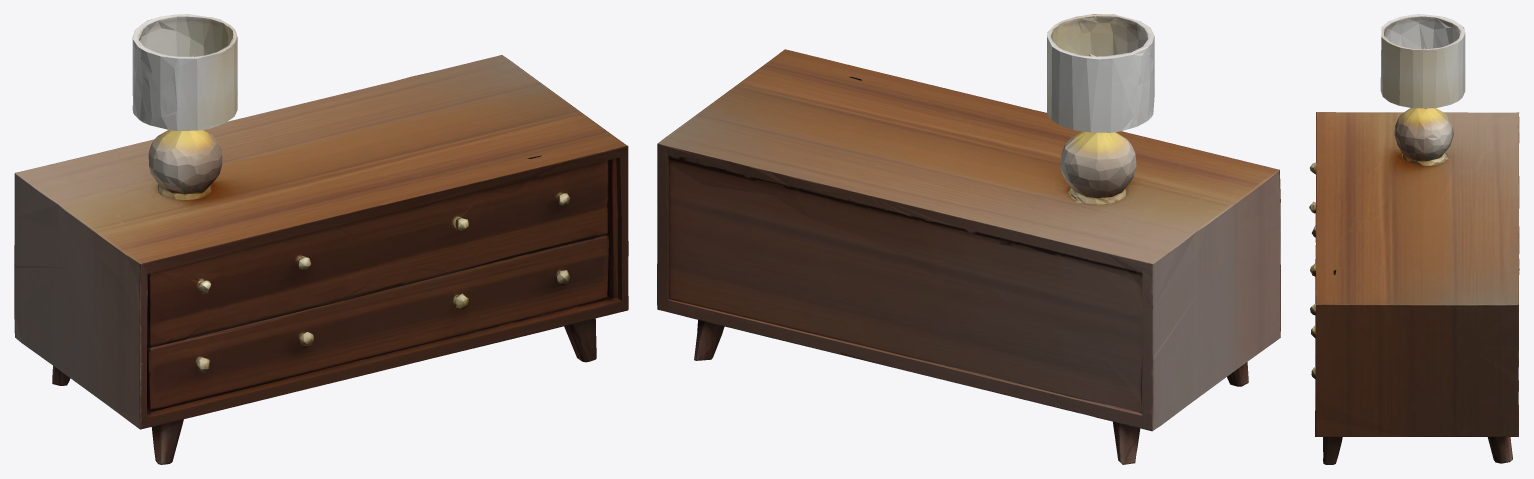
File: nightstand.glb
3 renders of one model, left to right at view 1: azimuth 30°, elevation 25°; view 2: azimuth 150°, elevation 25°; view 3: azimuth 270°, elevation 25°, orthographic. The views are drawn at different scales.
Visible parts, largest first — view 1: world; view 2: world; view 3: world.
Boxes of the visible parts, box(x1,y1,x2,y2) form: world: box(14, 14, 628, 464); world: box(657, 14, 1280, 464); world: box(1309, 14, 1519, 464).
Bounding box in the file's own units: 1 × 0.714 × 0.4617.
1 material, 1 textured.
